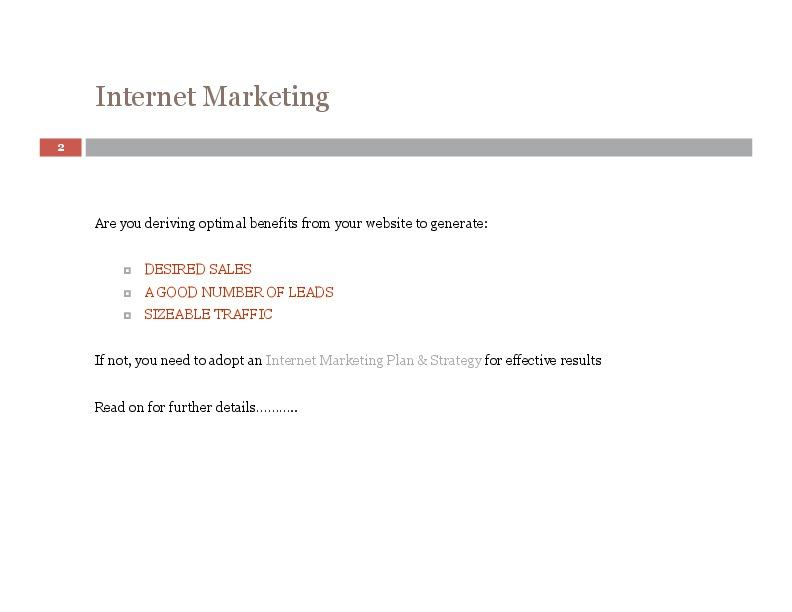title: (75, 190, 694, 441), (86, 76, 352, 125)
